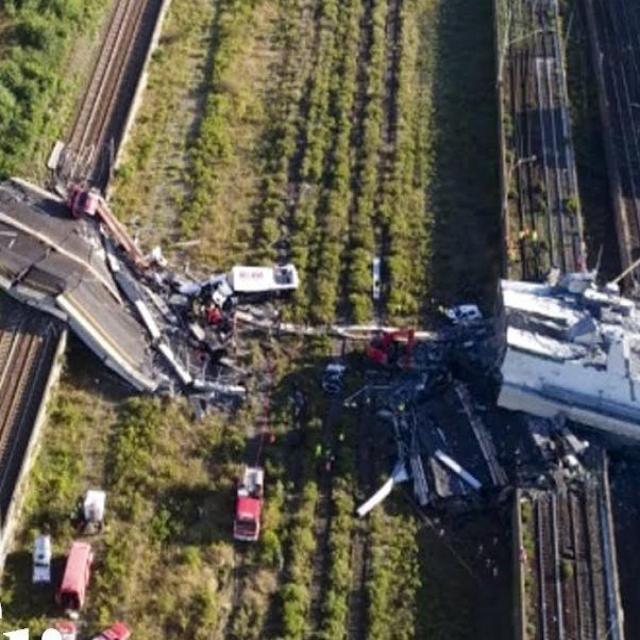collapsed_building: (0, 187, 639, 418)
